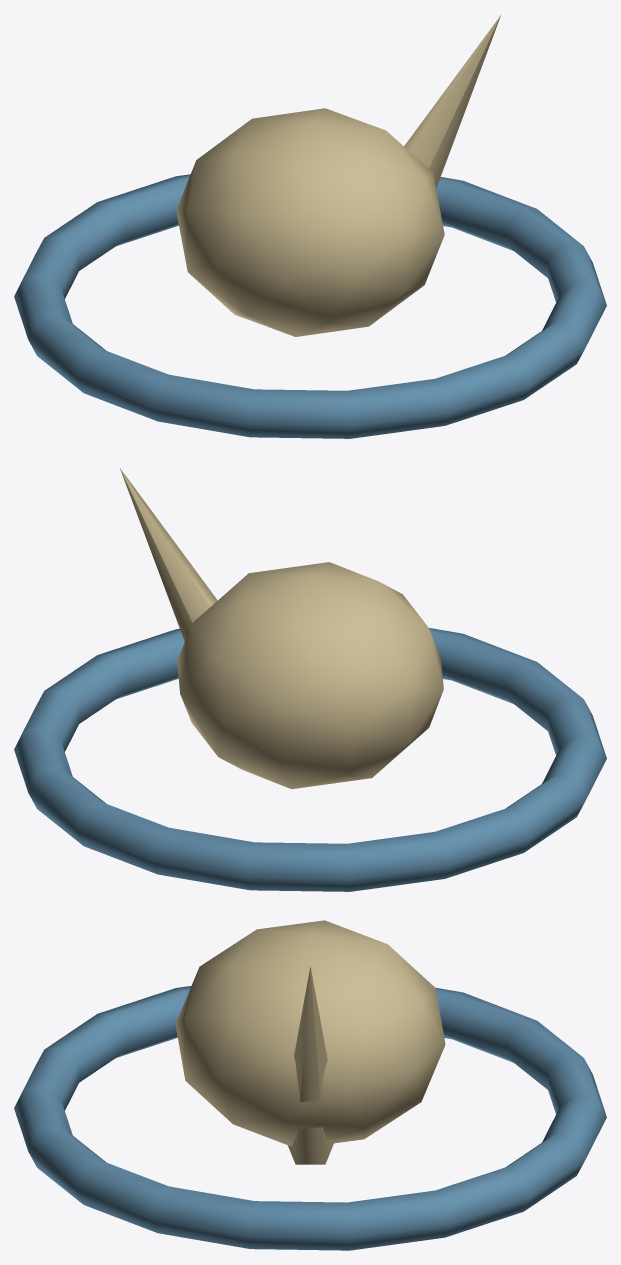
The model's file is wpn_m_05.glb.
The picture shows the model from 3 angles, top to bottom: view 1: azimuth 30°, elevation 25°; view 2: azimuth 150°, elevation 25°; view 3: azimuth 270°, elevation 25°; orthographic projection.
Parts seen in each view (by area): view 1: impact_ring, impact_core, impact_ray; view 2: impact_ring, impact_core, impact_ray; view 3: impact_ring, impact_core, impact_ray.
Part boxes in pixels (<box>): impact_ring: <box>14,174,606,438</box>; impact_core: <box>176,108,444,336</box>; impact_ray: <box>404,15,500,188</box>; impact_ring: <box>14,628,606,891</box>; impact_core: <box>177,562,443,789</box>; impact_ray: <box>120,468,217,641</box>; impact_ring: <box>14,986,606,1250</box>; impact_core: <box>175,920,445,1146</box>; impact_ray: <box>288,966,333,1164</box>.
Size of the model in its own units: 0.9509 by 0.4681 by 0.9594.
